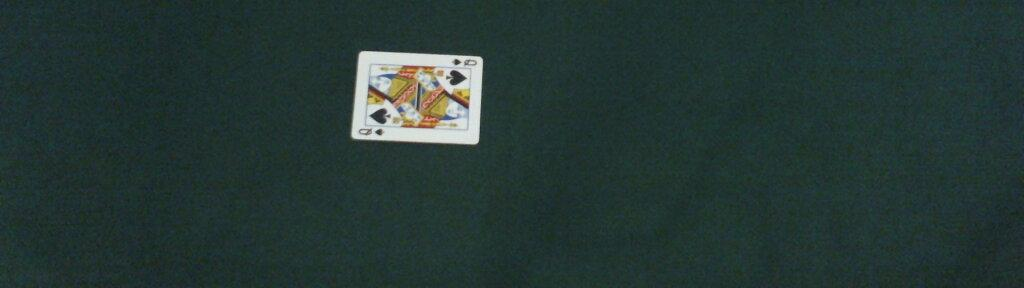queen: (350, 50, 483, 145)
